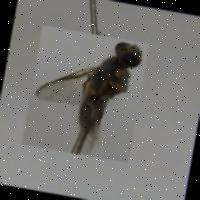Oriental-fruit-fly: (20, 25, 148, 162)
